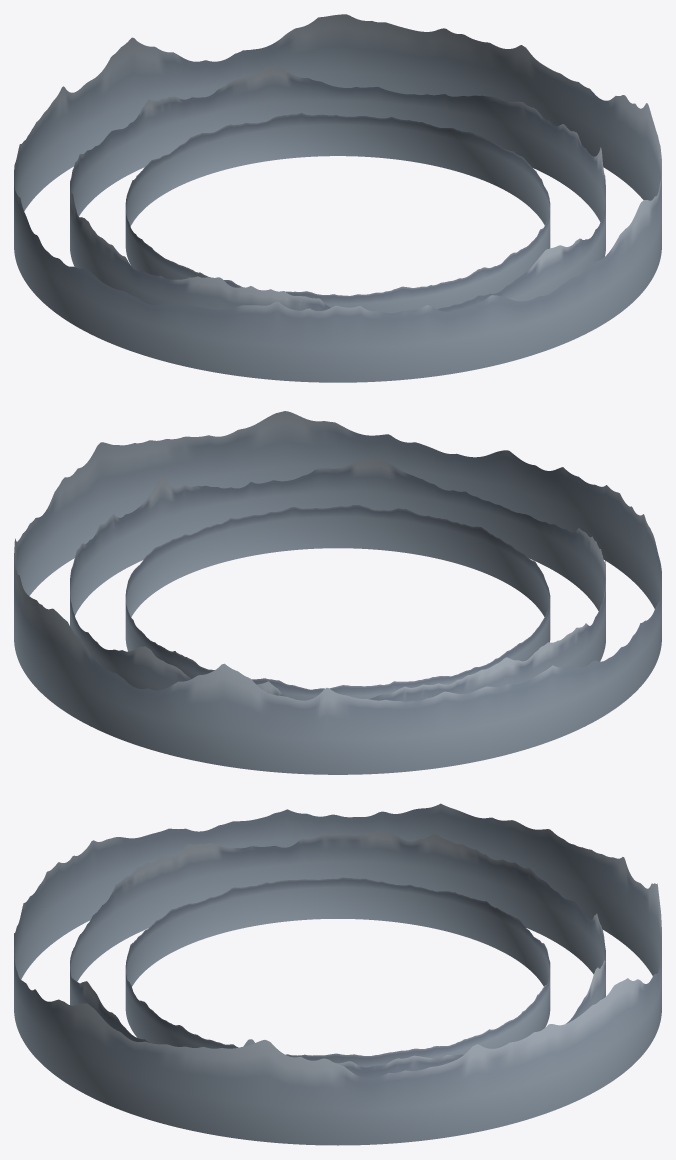
3 views of the same model, one above another, from view 1: azimuth 30°, elevation 25°; view 2: azimuth 150°, elevation 25°; view 3: azimuth 270°, elevation 25° (orthographic).
Parts seen in each view (by area): view 1: Backdrop_L2_1; view 2: Backdrop_L2_1; view 3: Backdrop_L2_1.
Boxes of the visible parts, x1,y1,x2,y2 form: Backdrop_L2_1: (14, 14, 661, 382); Backdrop_L2_1: (14, 411, 661, 774); Backdrop_L2_1: (14, 803, 661, 1145).
Bounding box in the file's own units: 2320 × 405 × 2320.
